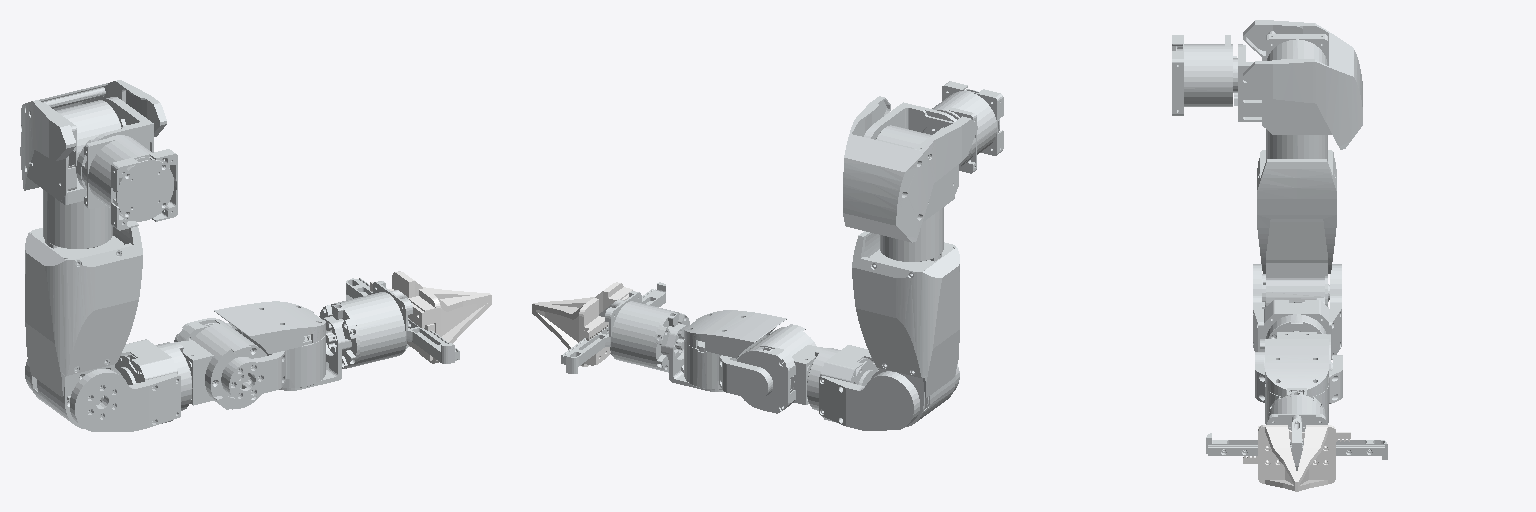
URDF robot description (X7Sleft1):
<?xml version="1.0" encoding="utf-8"?>
<!-- This URDF was automatically created by SolidWorks to URDF Exporter! Originally created by [author] ([email redacted]) 
     Commit Version: 1.6.0-4-g7f85cfe  Build Version: 1.6.7995.38578
     For more information, please see http://wiki.ros.org/sw_urdf_exporter -->
<robot
  name="X7Sleft1">
  <link
    name="base_link">
    <inertial>
      <origin
        xyz="-0.00022525 0.028323 1.2423E-08"
        rpy="0 0 0" />
      <mass
        value="0.42055" />
      <inertia
        ixx="0.00020"
        ixy="0.00000"
        ixz="0.00000"
        iyy="0.00020"
        iyz="0.00000"
        izz="0.00020" />
    </inertial>
    <visual>
      <origin
        xyz="0 0 0"
        rpy="0 0 0" />
      <geometry>
        <mesh
          filename="package://X7Sleft1/meshes/base_link.STL" />
      </geometry>
      <material
        name="">
        <color
          rgba="0.89804 0.91765 0.92941 1" />
      </material>
    </visual>
    <collision>
      <origin
        xyz="0 0 0"
        rpy="0 0 0" />
      <geometry>
        <mesh
          filename="package://X7Sleft1/meshes/base_link.STL" />
      </geometry>
    </collision>
  </link>
  <link
    name="link1">
    <inertial>
      <origin
        xyz="0.020311877665791 0.0282074621926083 -0.000172803675324396"
        rpy="0 0 0" />
      <mass
        value="0.131891884746085" />
      <inertia
        ixx="0.00012"
        ixy="0.00004"
        ixz="0.00000"
        iyy="0.00009"
        iyz="0.00000"
        izz="0.00014" />
    </inertial>
    <visual>
      <origin
        xyz="0 0 0"
        rpy="0 0 0" />
      <geometry>
        <mesh
          filename="package://X7Sleft1/meshes/link1.STL" />
      </geometry>
      <material
        name="">
        <color
          rgba="0.898039215686275 0.917647058823529 0.929411764705882 1" />
      </material>
    </visual>
    <collision>
      <origin
        xyz="0 0 0"
        rpy="0 0 0" />
      <geometry>
        <mesh
          filename="package://X7Sleft1/meshes/link1.STL" />
      </geometry>
    </collision>
  </link>
  <joint
    name="joint1"
    type="revolute">
    <origin
      xyz="0 0.05325 0"
      rpy="0 0 0" />
    <parent
      link="base_link" />
    <child
      link="link1" />
    <axis
      xyz="0 1 0" />
    <limit
      lower="-10"
      upper="10"
      effort="100"
      velocity="1000" />
  </joint>
  <link
    name="link2">
    <inertial>
      <origin
        xyz="0.0244518842072324 -0.00440119803298117 -0.0251861647177712"
        rpy="0 0 0" />
      <mass
        value="1.03161675931573" />
      <inertia
        ixx="0.00167"
        ixy="0.00003"
        ixz="-0.00007"
        iyy="0.00166"
        iyz="-0.00005"
        izz="0.00088" />
    </inertial>
    <visual>
      <origin
        xyz="0 0 0"
        rpy="0 0 0" />
      <geometry>
        <mesh
          filename="package://X7Sleft1/meshes/link2.STL" />
      </geometry>
      <material
        name="">
        <color
          rgba="0.898039215686275 0.917647058823529 0.929411764705882 1" />
      </material>
    </visual>
    <collision>
      <origin
        xyz="0 0 0"
        rpy="0 0 0" />
      <geometry>
        <mesh
          filename="package://X7Sleft1/meshes/link2.STL" />
      </geometry>
    </collision>
  </link>
  <joint
    name="joint2"
    type="revolute">
    <origin
      xyz="0.02725 0.063 0"
      rpy="0 0 3.1416" />
    <parent
      link="link1" />
    <child
      link="link2" />
    <axis
      xyz="1 0 0" />
    <limit
      lower="-10"
      upper="10"
      effort="100"
      velocity="1000" />
  </joint>
  <link
    name="link3">
    <inertial>
      <origin
        xyz="0.000796008703210654 0.00142665684868126 0.101622364164867"
        rpy="0 0 0" />
      <mass
        value="0.765519690456981" />
      <inertia
        ixx="0.00256"
        ixy="0.00000"
        ixz="-0.00009"
        iyy="0.00257"
        iyz="0.00004"
        izz="0.00061" />
    </inertial>
    <visual>
      <origin
        xyz="0 0 0"
        rpy="0 0 0" />
      <geometry>
        <mesh
          filename="package://X7Sleft1/meshes/link3.STL" />
      </geometry>
      <material
        name="">
        <color
          rgba="0.898039215686275 0.917647058823529 0.929411764705882 1" />
      </material>
    </visual>
    <collision>
      <origin
        xyz="0 0 0"
        rpy="0 0 0" />
      <geometry>
        <mesh
          filename="package://X7Sleft1/meshes/link3.STL" />
      </geometry>
    </collision>
  </link>
  <joint
    name="joint3"
    type="revolute">
    <origin
      xyz="0.02725 0 -0.0865"
      rpy="-3.1416 0 -3.1416" />
    <parent
      link="link2" />
    <child
      link="link3" />
    <axis
      xyz="0 0 1" />
    <limit
      lower="-10"
      upper="10"
      effort="100"
      velocity="1000" />
  </joint>
  <link
    name="link4">
    <inertial>
      <origin
        xyz="0.0572757021973012 -0.0269098094066145 0.0123622008924992"
        rpy="0 0 0" />
      <mass
        value="0.512053698031064" />
      <inertia
        ixx="0.00045"
        ixy="0.00000"
        ixz="0.00008"
        iyy="0.00061"
        iyz="0.00000"
        izz="0.00079" />
    </inertial>
    <visual>
      <origin
        xyz="0 0 0"
        rpy="0 0 0" />
      <geometry>
        <mesh
          filename="package://X7Sleft1/meshes/link4.STL" />
      </geometry>
      <material
        name="">
        <color
          rgba="0.898039215686275 0.917647058823529 0.929411764705882 1" />
      </material>
    </visual>
    <collision>
      <origin
        xyz="0 0 0"
        rpy="0 0 0" />
      <geometry>
        <mesh
          filename="package://X7Sleft1/meshes/link4.STL" />
      </geometry>
    </collision>
  </link>
  <joint
    name="joint4"
    type="revolute">
    <origin
      xyz="0 0.02725 0.1435"
      rpy="0 0 0" />
    <parent
      link="link3" />
    <child
      link="link4" />
    <axis
      xyz="0 1 0" />
    <limit
      lower="-10"
      upper="10"
      effort="100"
      velocity="1000" />
  </joint>
  <link
    name="link5">
    <inertial>
      <origin
        xyz="0.0458969495197847 -0.000535552755459467 -9.66305755381314E-05"
        rpy="0 0 0" />
      <mass
        value="0.487431771518003" />
      <inertia
        ixx="0.00024"
        ixy="0.00000"
        ixz="0.00000"
        iyy="0.00027"
        iyz="0.00000"
        izz="0.00029" />
    </inertial>
    <visual>
      <origin
        xyz="0 0 0"
        rpy="0 0 0" />
      <geometry>
        <mesh
          filename="package://X7Sleft1/meshes/link5.STL" />
      </geometry>
      <material
        name="">
        <color
          rgba="0.898039215686275 0.917647058823529 0.929411764705882 1" />
      </material>
    </visual>
    <collision>
      <origin
        xyz="0 0 0"
        rpy="0 0 0" />
      <geometry>
        <mesh
          filename="package://X7Sleft1/meshes/link5.STL" />
      </geometry>
    </collision>
  </link>
  <joint
    name="joint5"
    type="revolute">
    <origin
      xyz="0.0945 -0.02725 0.015"
      rpy="-3.1416 0 0" />
    <parent
      link="link4" />
    <child
      link="link5" />
    <axis
      xyz="1 0 0" />
    <limit
      lower="-10"
      upper="10"
      effort="100"
      velocity="1000" />
  </joint>
  <link
    name="link6">
    <inertial>
      <origin
        xyz="0.0569901699892534 -0.0268818811269747 -0.00134167868662896"
        rpy="0 0 0" />
      <mass
        value="0.438499752323276" />
      <inertia
        ixx="0.00026"
        ixy="-0.00001"
        ixz="0.00002"
        iyy="0.00034"
        iyz="0.00000"
        izz="0.00043" />
    </inertial>
    <visual>
      <origin
        xyz="0 0 0"
        rpy="0 0 0" />
      <geometry>
        <mesh
          filename="package://X7Sleft1/meshes/link6.STL" />
      </geometry>
      <material
        name="">
        <color
          rgba="0.898039215686275 0.917647058823529 0.929411764705882 1" />
      </material>
    </visual>
    <collision>
      <origin
        xyz="0 0 0"
        rpy="0 0 0" />
      <geometry>
        <mesh
          filename="package://X7Sleft1/meshes/link6.STL" />
      </geometry>
    </collision>
  </link>
  <joint
    name="joint6"
    type="revolute">
    <origin
      xyz="0.05 -0.02725 0"
      rpy="3.1416 0 0" />
    <parent
      link="link5" />
    <child
      link="link6" />
    <axis
      xyz="0 1 0" />
    <limit
      lower="-10"
      upper="10"
      effort="100"
      velocity="1000" />
  </joint>
  <link
    name="link7">
    <inertial>
      <origin
        xyz="0.0782374674118872 2.27688610717758E-05 0.0203907673164147"
        rpy="0 0 0" />
      <mass
        value="0.471847834199075" />
      <inertia
        ixx="0.00040"
        ixy="0.00000"
        ixz="0.00006"
        iyy="0.00043"
        iyz="0.00000"
        izz="0.00064" />
    </inertial>
    <visual>
      <origin
        xyz="0 0 0"
        rpy="0 0 0" />
      <geometry>
        <mesh
          filename="package://X7Sleft1/meshes/link7.STL" />
      </geometry>
      <material
        name="">
        <color
          rgba="0.898039215686275 0.917647058823529 0.929411764705882 1" />
      </material>
    </visual>
    <collision>
      <origin
        xyz="0 0 0"
        rpy="0 0 0" />
      <geometry>
        <mesh
          filename="package://X7Sleft1/meshes/link7.STL" />
      </geometry>
    </collision>
  </link>
  <joint
    name="joint7"
    type="revolute">
    <origin
      xyz="0.066 -0.02725 0.022"
      rpy="-3.1416 0 0" />
    <parent
      link="link6" />
    <child
      link="link7" />
    <axis
      xyz="0 0 -1" />
    <limit
      lower="-10"
      upper="10"
      effort="100"
      velocity="1000" />
  </joint>
  <link
    name="link8">
    <inertial>
      <origin
        xyz="-0.000355222592136328 -0.00782703850945629 -0.00298831676869107"
        rpy="0 0 0" />
      <mass
        value="0.0647981743053199" />
      <inertia
        ixx="0.00002"
        ixy="0.00000"
        ixz="0.00000"
        iyy="0.00003"
        iyz="0.00000"
        izz="0.00003" />
    </inertial>
    <visual>
      <origin
        xyz="0 0 0"
        rpy="0 0 0" />
      <geometry>
        <mesh
          filename="package://X7Sleft1/meshes/link8.STL" />
      </geometry>
      <material
        name="">
        <color
          rgba="1 1 1 1" />
      </material>
    </visual>
    <collision>
      <origin
        xyz="0 0 0"
        rpy="0 0 0" />
      <geometry>
        <mesh
          filename="package://X7Sleft1/meshes/link8.STL" />
      </geometry>
    </collision>
  </link>
  <joint
    name="joint8"
    type="prismatic">
    <origin
      xyz="0.12737 0.024896 0.021756"
      rpy="0 0 0" />
    <parent
      link="link7" />
    <child
      link="link8" />
    <axis
      xyz="0 1 0" />
    <limit
      lower="0"
      upper="0.044"
      effort="100"
      velocity="1000" />
  </joint>
  <link
    name="link9">
    <inertial>
      <origin
        xyz="-0.000355223470266841 0.00782768756406096 0.00242005658676181"
        rpy="0 0 0" />
      <mass
        value="0.0647981725781685" />
      <inertia
        ixx="0.00002"
        ixy="0.00000"
        ixz="0.00000"
        iyy="0.00003"
        iyz="0.00000"
        izz="0.00003" />
    </inertial>
    <visual>
      <origin
        xyz="0 0 0"
        rpy="0 0 0" />
      <geometry>
        <mesh
          filename="package://X7Sleft1/meshes/link9.STL" />
      </geometry>
      <material
        name="">
        <color
          rgba="1 1 1 1" />
      </material>
    </visual>
    <collision>
      <origin
        xyz="0 0 0"
        rpy="0 0 0" />
      <geometry>
        <mesh
          filename="package://X7Sleft1/meshes/link9.STL" />
      </geometry>
    </collision>
  </link>
  <joint
    name="joint9"
    type="prismatic">
    <origin
      xyz="0.12737 -0.0249 0.021756"
      rpy="0 0 0" />
    <parent
      link="link7" />
    <child
      link="link9" />
    <axis
      xyz="0 -1 0" />
    <limit
      lower="0"
      upper="0.044"
      effort="100"
      velocity="1000" />
  </joint>
</robot>

--- What the picture shows (computed from the rendered views, not written in the file) ---
Views: 3 orthographic renders of the robot side by side, from view 1: azimuth 30°, elevation 25°; view 2: azimuth 150°, elevation 25°; view 3: azimuth 270°, elevation 25°.
Robot: X7Sleft1 — 10 links, 9 joints (7 revolute, 2 prismatic); root link base_link; default pose: all joints at 0.
Visible links, largest first — view 1: link3, link2, link4, link6, link7, base_link, link5, link9, link1, link8; view 2: link2, link3, link4, link7, link6, link5, base_link, link8, link1, link9; view 3: link2, link3, link6, base_link, link4, link7, link9, link8, link1.
Boxes of the visible links, x1,y1,x2,y2 form: link3: (25,226,142,428); link2: (20,80,166,248); link4: (25,339,192,431); link6: (214,301,325,400); link7: (279,278,459,390); base_link: (82,135,177,230); link5: (174,318,266,409); link9: (370,282,491,363); link1: (76,97,153,190); link8: (388,271,489,360); link2: (843,96,977,261); link3: (852,231,959,426); link4: (807,345,959,430); link7: (561,282,723,391); link6: (684,310,786,399); link5: (737,324,819,413); base_link: (932,81,1003,173); link8: (532,298,610,366); link1: (864,102,969,167); link9: (536,282,635,340); link2: (1243,20,1362,160); link3: (1257,150,1336,306); link6: (1255,339,1342,424); base_link: (1172,35,1236,115); link4: (1253,264,1341,359); link7: (1206,392,1387,470); link9: (1258,425,1350,491); link8: (1243,425,1335,491); link1: (1233,44,1261,121).
Size in the robot's own frame: 0.4508 by 0.2065 by 0.3161 metres.
10 mesh visuals loaded from 10 distinct referenced files (10 binary STL).